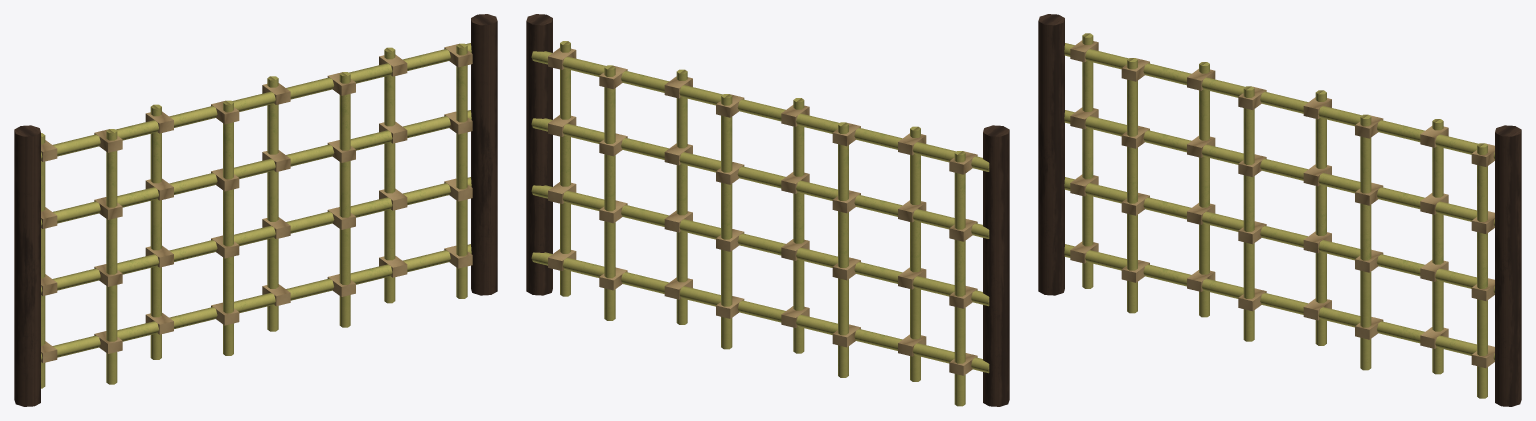
Rendered from HO_Prop_BambooFence_8.fbx.
3 renders of one model, left to right at view 1: azimuth 30°, elevation 25°; view 2: azimuth 150°, elevation 25°; view 3: azimuth 330°, elevation 25°, orthographic.
Visible parts, largest first — view 1: HO_Prop_BambooFence_8__Bamboo, HO_Prop_BambooFence_8__Timber_Dark, HO_Prop_BambooFence_8__Rope; view 2: HO_Prop_BambooFence_8__Bamboo, HO_Prop_BambooFence_8__Timber_Dark, HO_Prop_BambooFence_8__Rope; view 3: HO_Prop_BambooFence_8__Bamboo, HO_Prop_BambooFence_8__Timber_Dark, HO_Prop_BambooFence_8__Rope.
Boxes of the visible parts, <box> form: HO_Prop_BambooFence_8__Bamboo: <box>41,43,471,388</box>; HO_Prop_BambooFence_8__Timber_Dark: <box>14,14,497,406</box>; HO_Prop_BambooFence_8__Rope: <box>41,44,472,362</box>; HO_Prop_BambooFence_8__Bamboo: <box>531,41,989,406</box>; HO_Prop_BambooFence_8__Timber_Dark: <box>526,14,1009,406</box>; HO_Prop_BambooFence_8__Rope: <box>548,48,977,375</box>; HO_Prop_BambooFence_8__Bamboo: <box>1064,33,1494,398</box>; HO_Prop_BambooFence_8__Timber_Dark: <box>1038,14,1521,406</box>; HO_Prop_BambooFence_8__Rope: <box>1070,40,1494,368</box>.
Size of the model in its own units: 8 by 4.3 by 0.65.
